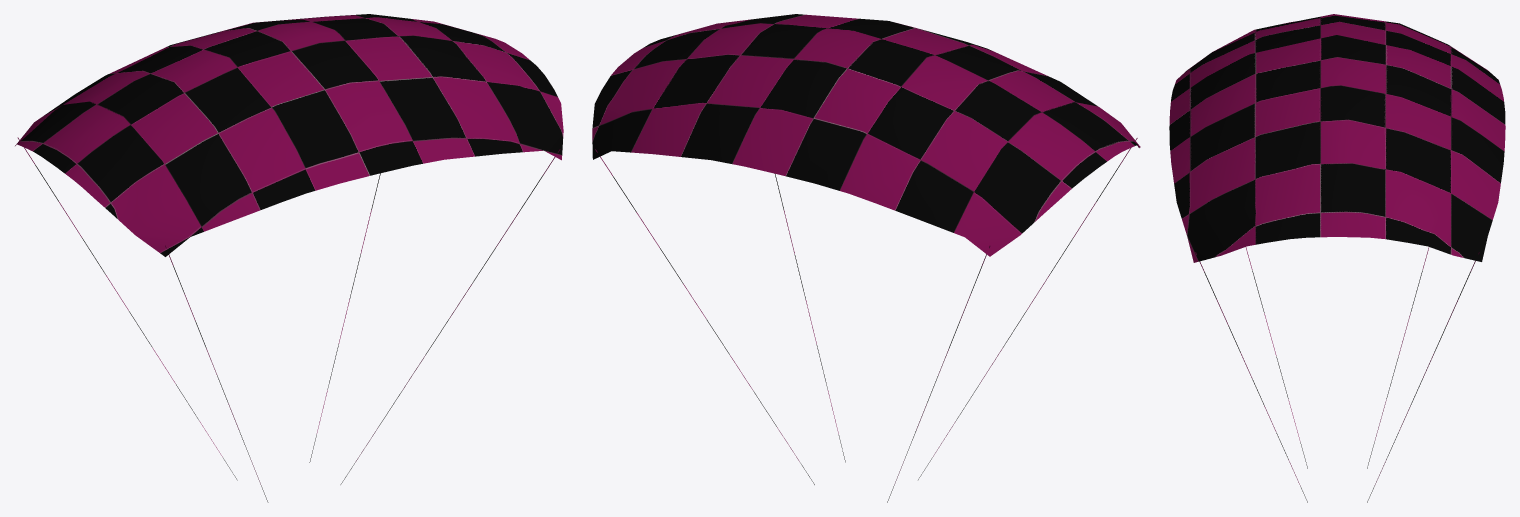
Rendered from SupplyAddon.obj.
3 views of the same model, side by side, from view 1: azimuth 30°, elevation 25°; view 2: azimuth 150°, elevation 25°; view 3: azimuth 270°, elevation 25° (orthographic). The views are drawn at different scales.
Parts seen in each view (by area): view 1: polySurface7; view 2: polySurface7; view 3: polySurface7.
Part boxes in pixels (left/top/right/bottom): polySurface7: left=15, top=14, right=563, bottom=502; polySurface7: left=592, top=14, right=1140, bottom=502; polySurface7: left=1169, top=14, right=1505, bottom=502.
Bounding box in the file's own units: 105 × 95.73 × 68.27.
Materials: 1 (1 with a texture image).
